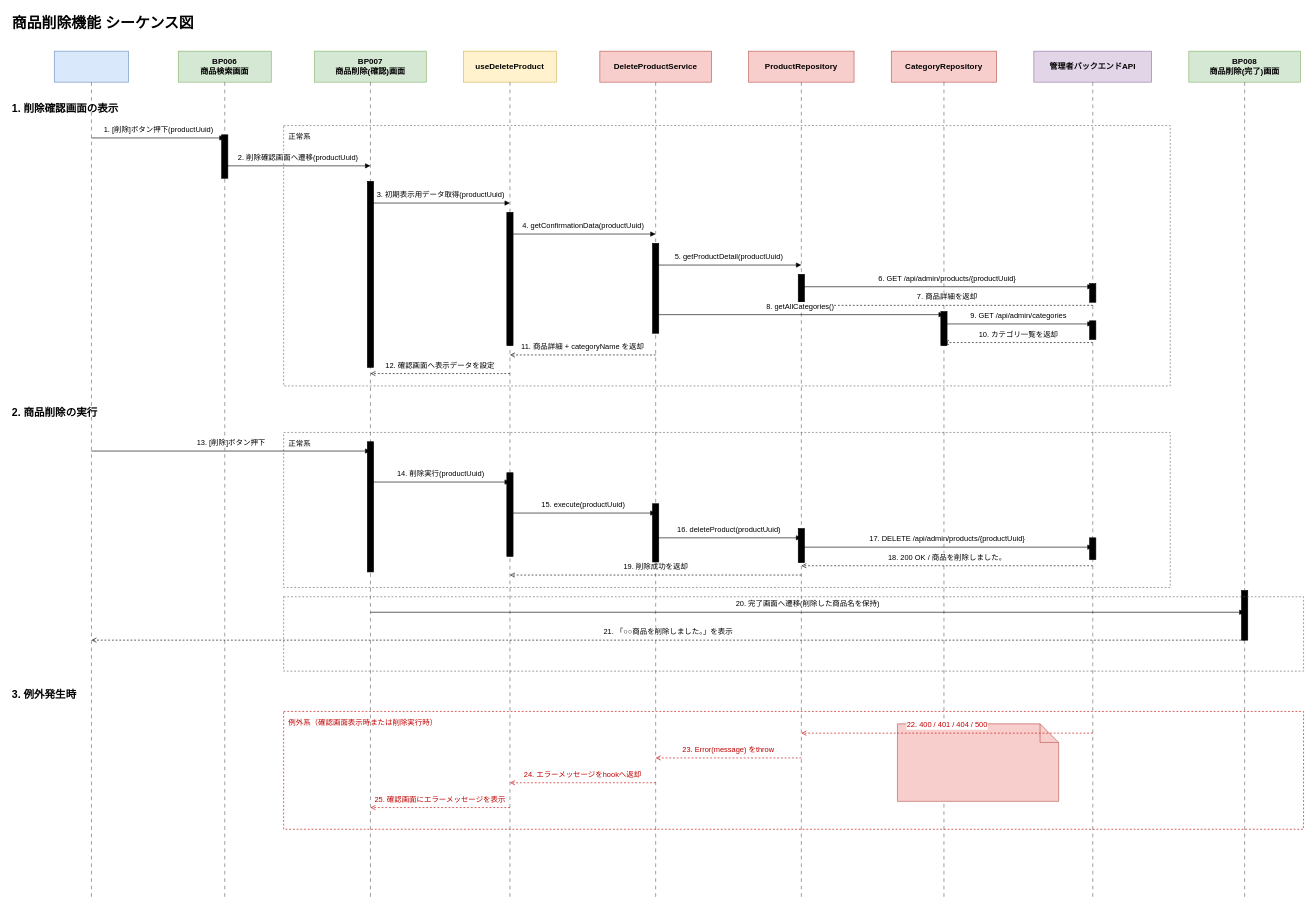
This 1314x912 diagram has some shape labels left out. Each missing label, with the centre of its shape:
代表例 ・400: 不正な商品UUID ・401: 認証が必要 ・404: 商品が存在しない ・500: サーバー内部エラー: point (978, 762)
削除成功: point (793, 633)
担当者: point (91, 66)
